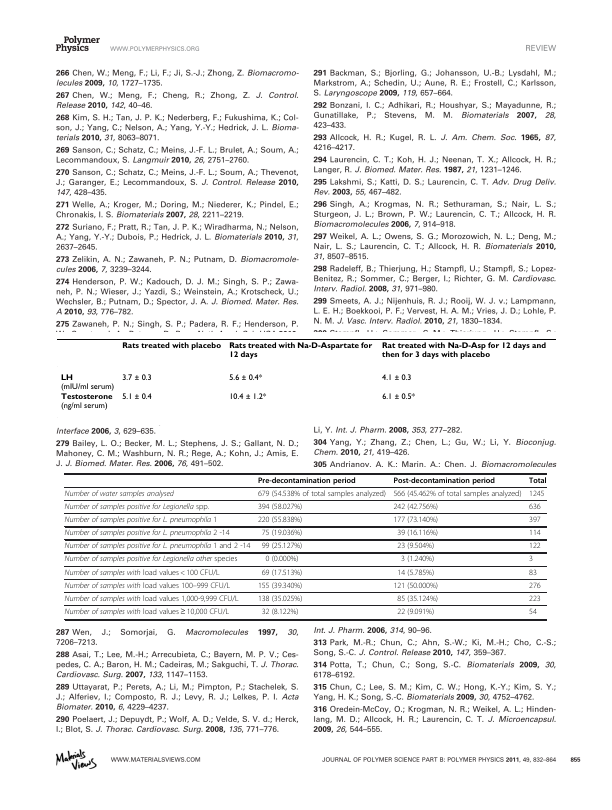borderless: (64, 472, 546, 619), (55, 337, 557, 419)
cell: (381, 342, 546, 360), (228, 342, 373, 360), (64, 594, 240, 604), (64, 542, 251, 551), (64, 581, 231, 591), (64, 528, 230, 538), (64, 607, 230, 617), (64, 555, 238, 564), (64, 515, 218, 525), (64, 502, 210, 512), (64, 568, 220, 577), (257, 489, 387, 499), (392, 489, 522, 499), (64, 489, 175, 499), (59, 373, 115, 392), (59, 393, 113, 411), (392, 476, 496, 485), (121, 342, 222, 351), (257, 476, 356, 485), (392, 502, 439, 512), (392, 515, 439, 525), (392, 581, 439, 591), (257, 502, 303, 512), (257, 515, 303, 525), (257, 581, 303, 591), (257, 594, 303, 604), (396, 528, 439, 538), (396, 594, 439, 604), (261, 528, 303, 538), (228, 392, 267, 402), (396, 607, 435, 617), (261, 607, 299, 617), (261, 542, 303, 551), (261, 568, 303, 577), (396, 542, 435, 551), (396, 568, 435, 577), (228, 373, 263, 383), (381, 392, 415, 402), (264, 555, 299, 564), (400, 555, 435, 564), (121, 373, 152, 383), (381, 373, 412, 383), (121, 392, 152, 402), (528, 476, 547, 485), (528, 489, 545, 499), (528, 502, 542, 512), (528, 515, 542, 525), (528, 528, 542, 538), (528, 581, 542, 591), (528, 594, 542, 604), (528, 542, 542, 551), (528, 607, 538, 617), (528, 568, 538, 577), (528, 555, 534, 564)
